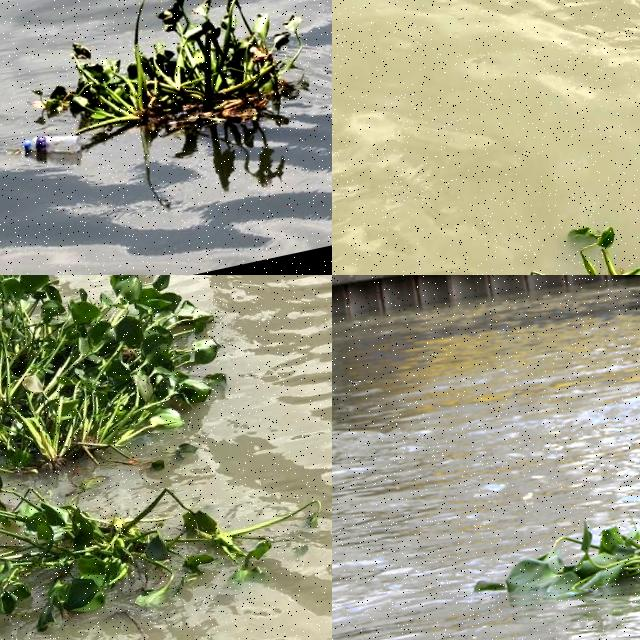plastic bottle: (22, 135, 82, 153)
water-hyacinth: (3, 468, 323, 640), (29, 1, 333, 168), (5, 277, 222, 467), (474, 517, 640, 605), (549, 224, 640, 276)
